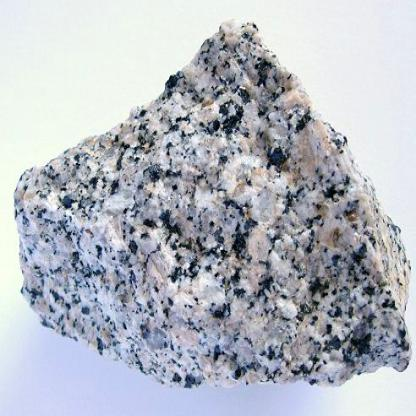Igneous_Granite: (6, 14, 415, 400)
